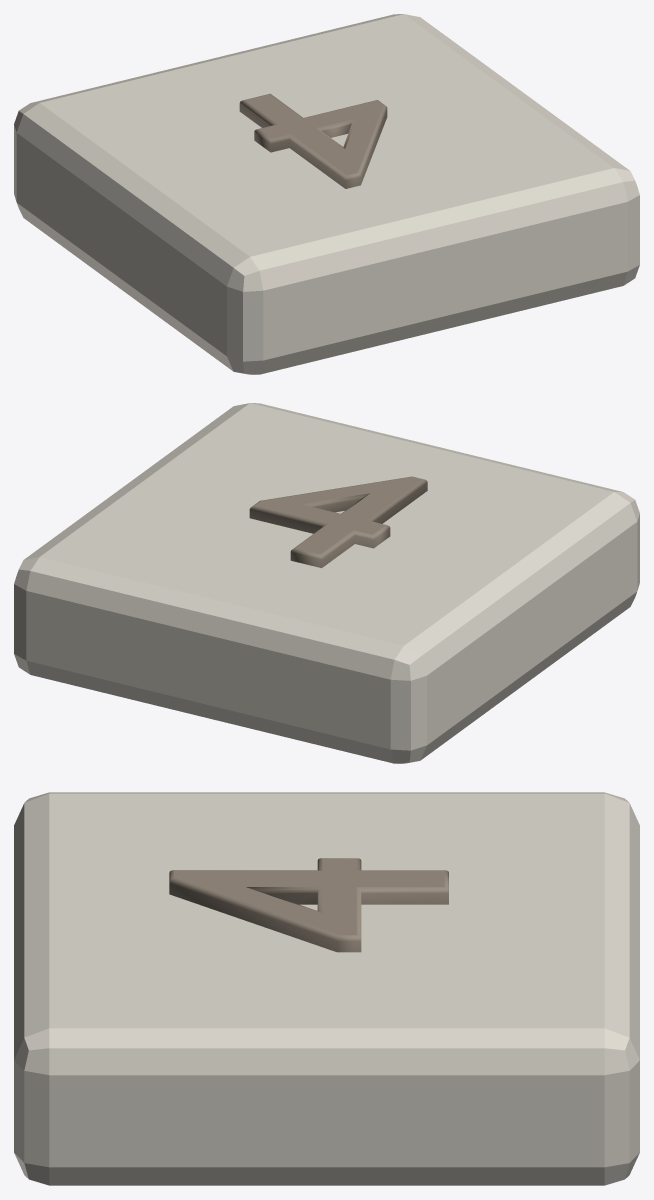
The model's file is Tile_4.fbx.
The picture shows the model from 3 angles, top to bottom: view 1: azimuth 30°, elevation 25°; view 2: azimuth 150°, elevation 25°; view 3: azimuth 270°, elevation 25°; orthographic projection. The views are drawn at different scales.
Visible parts, largest first — view 1: Tile_4; view 2: Tile_4; view 3: Tile_4.
Part boxes in pixels (x1,y1,x2,y2): Tile_4: (14, 14, 639, 374); Tile_4: (14, 403, 639, 763); Tile_4: (14, 792, 639, 1185).
Size of the model in its own units: 80 by 24.2 by 80.
